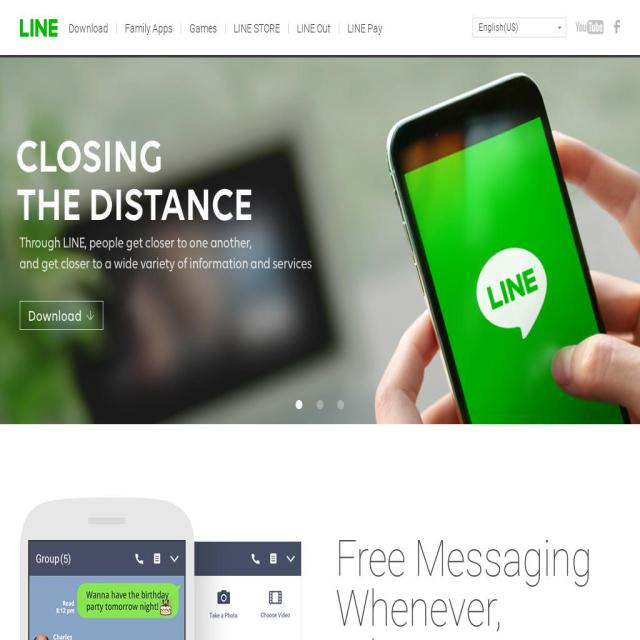button: (20, 320, 102, 349), (20, 307, 101, 336), (20, 309, 89, 338), (93, 309, 162, 338), (576, 20, 604, 35), (614, 20, 620, 35), (316, 400, 324, 410), (296, 400, 303, 410), (337, 400, 344, 410)
heading: (336, 530, 592, 588), (336, 579, 502, 640), (20, 19, 58, 37)
image: (20, 497, 301, 640)
link: (125, 22, 173, 35), (234, 22, 280, 35), (69, 22, 108, 35), (297, 22, 331, 35), (348, 22, 382, 35), (189, 22, 217, 35)
text: (472, 18, 566, 38)
